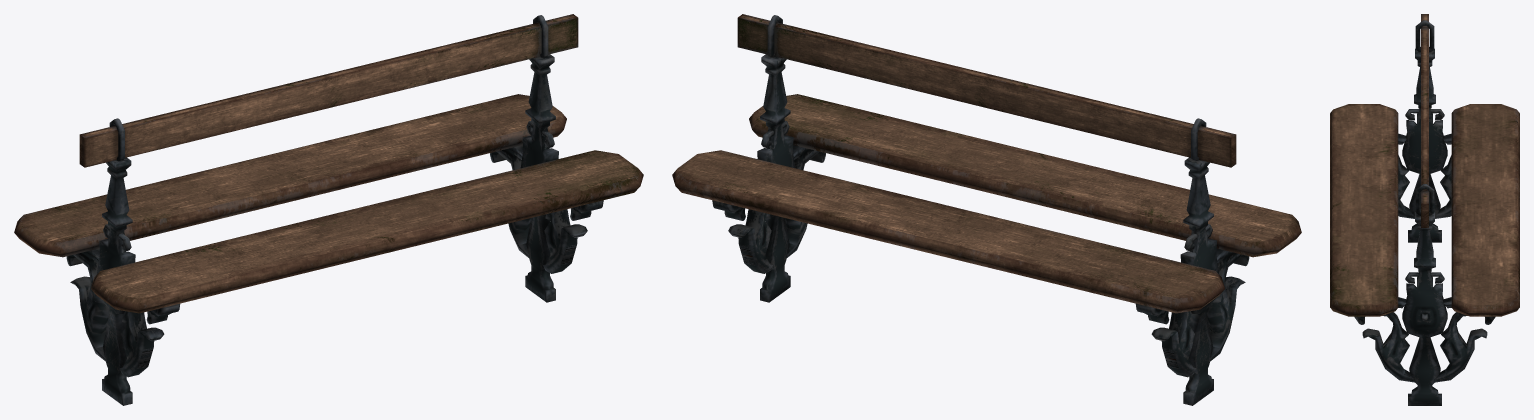
Rendered from chair_02.fbx.
3 renders of one model, left to right at view 1: azimuth 30°, elevation 25°; view 2: azimuth 150°, elevation 25°; view 3: azimuth 270°, elevation 25°, orthographic. The views are drawn at different scales.
Parts seen in each view (by area): view 1: chair_02; view 2: chair_02; view 3: chair_02.
Part boxes in pixels (left/top/right/bottom): chair_02: left=14, top=14, right=643, bottom=405; chair_02: left=672, top=14, right=1301, bottom=405; chair_02: left=1330, top=14, right=1519, bottom=405.
Bounding box in the file's own units: 14.41 × 7.19 × 5.63.
Materials: 1 (1 with a texture image).
